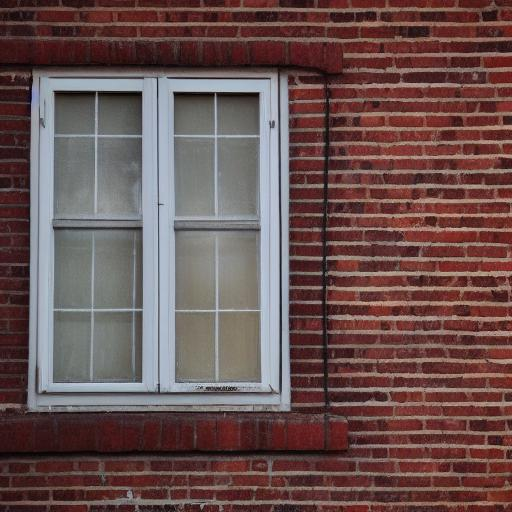Window: (8, 43, 352, 459)
